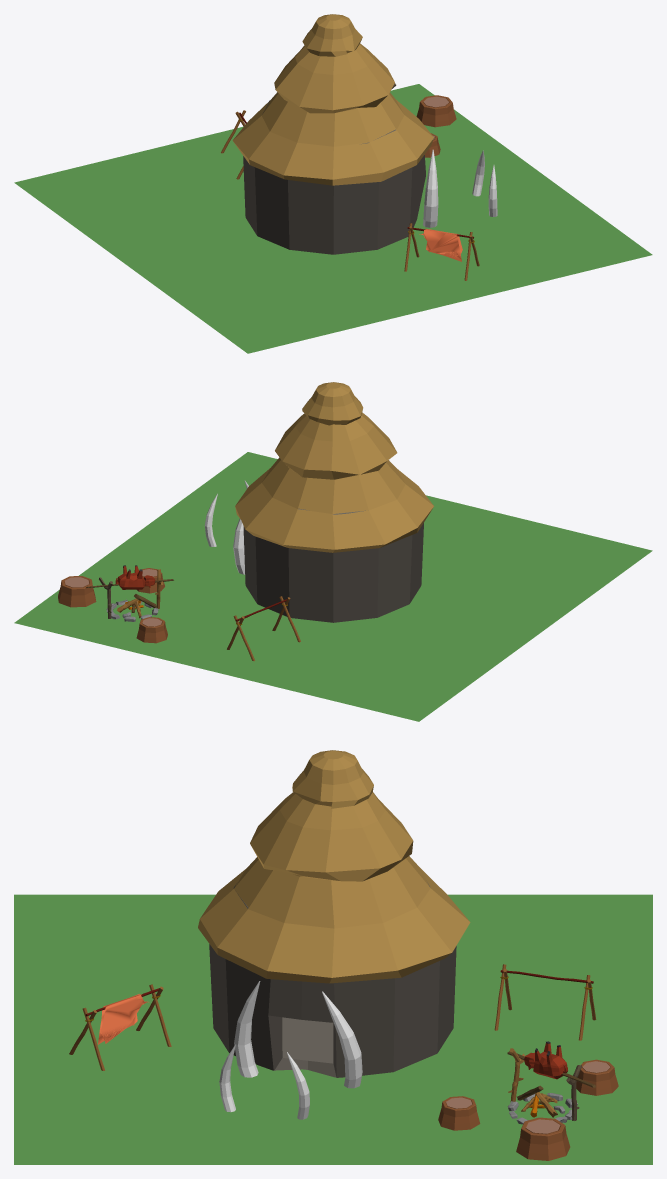
The model's file is forest people house.fbx.
3 renders of one model, top to bottom at view 1: azimuth 30°, elevation 25°; view 2: azimuth 150°, elevation 25°; view 3: azimuth 270°, elevation 25°, orthographic. The views are drawn at different scales.
Visible parts, largest first — view 1: Plane, Cylinder, Cylinder.007, Plane.003, Cylinder.004, Cylinder.003; view 2: Plane, Cylinder, Cube.010, Cylinder.007, Cylinder.006, Cylinder.009, Cylinder.005; view 3: Plane, Cylinder, Cube.010, Cylinder.007, Cylinder.005, Cylinder.004, Plane.003, Cylinder.006, Cylinder.008, Cylinder.009, Cylinder.003, Cylinder.001 (+1 smaller).
Boxes of the visible parts, left/top/right/bottom form: Plane: left=14, top=84, right=652, bottom=353; Cylinder: left=232, top=14, right=434, bottom=254; Cylinder.007: left=416, top=95, right=456, bottom=127; Plane.003: left=419, top=228, right=462, bottom=261; Cylinder.004: left=423, top=149, right=438, bottom=227; Cylinder.003: left=404, top=223, right=479, bottom=280; Plane: left=14, top=452, right=652, bottom=721; Cylinder: left=235, top=382, right=433, bottom=622; Cube.010: left=86, top=565, right=173, bottom=621; Cylinder.007: left=58, top=576, right=96, bottom=607; Cylinder.006: left=136, top=617, right=167, bottom=643; Cylinder.009: left=227, top=596, right=300, bottom=661; Cylinder.005: left=233, top=518, right=244, bottom=574; Plane: left=14, top=894, right=652, bottom=1164; Cylinder: left=198, top=750, right=470, bottom=1077; Cube.010: left=507, top=1041, right=595, bottom=1124; Cylinder.007: left=516, top=1117, right=570, bottom=1160; Cylinder.005: left=322, top=991, right=362, bottom=1088; Cylinder.004: left=234, top=981, right=260, bottom=1077; Plane.003: left=98, top=994, right=149, bottom=1044; Cylinder.006: left=576, top=1059, right=618, bottom=1095; Cylinder.008: left=438, top=1096, right=480, bottom=1130; Cylinder.009: left=494, top=964, right=596, bottom=1040; Cylinder.003: left=69, top=984, right=171, bottom=1070; Cylinder.001: left=219, top=1044, right=235, bottom=1112.
Size of the model in its own units: 980 by 486 by 980.
